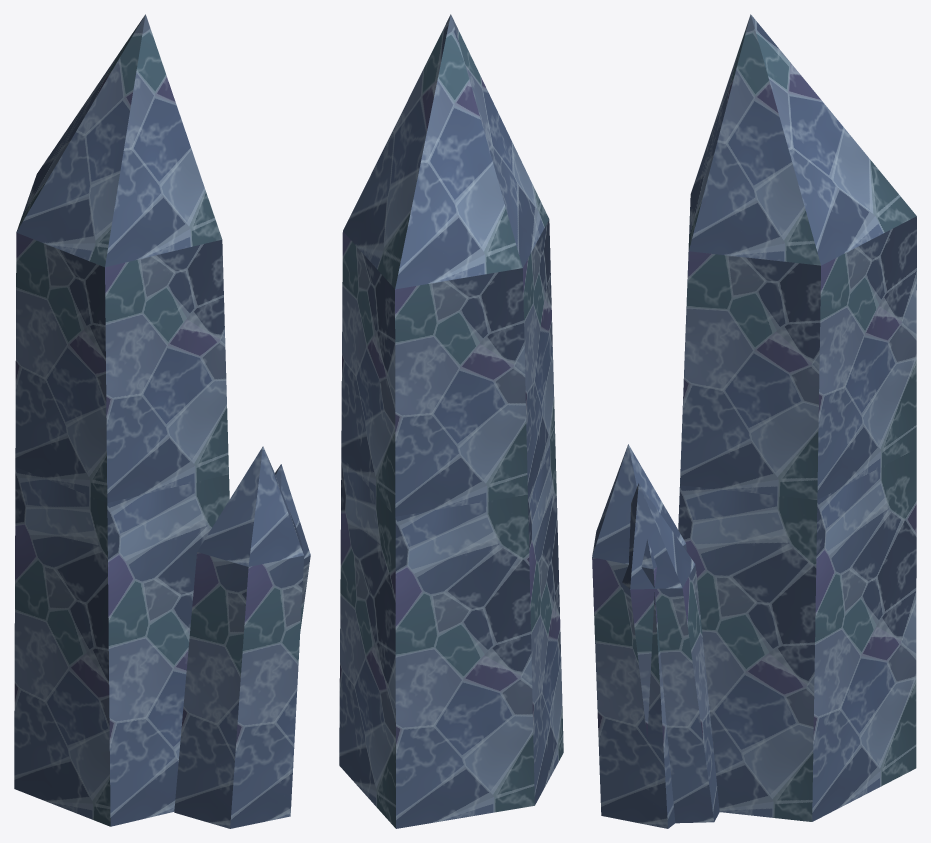
Rendered from Oracle_Crystal_Slab_2_LOD2.gltf.
3 renders of one model, left to right at view 1: azimuth 30°, elevation 25°; view 2: azimuth 150°, elevation 25°; view 3: azimuth 270°, elevation 25°, orthographic. The views are drawn at different scales.
Parts seen in each view (by area): view 1: Oracle_Crystal_Slab_2_LOD2; view 2: Oracle_Crystal_Slab_2_LOD2; view 3: Oracle_Crystal_Slab_2_LOD2.
Boxes of the visible parts, x1,y1,x2,y2 form: Oracle_Crystal_Slab_2_LOD2: (14, 14, 310, 828); Oracle_Crystal_Slab_2_LOD2: (339, 14, 563, 828); Oracle_Crystal_Slab_2_LOD2: (592, 14, 916, 828).
Bounding box in the file's own units: 10.81 × 37 × 14.19.
1 material, 1 textured.
